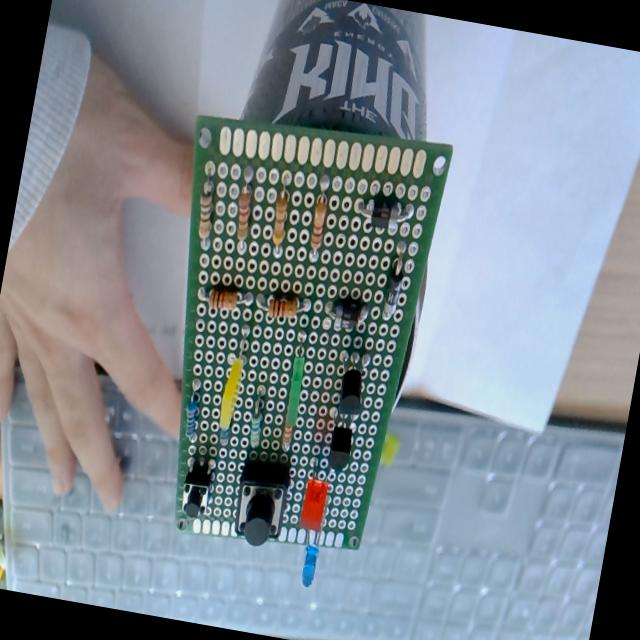diode: (354, 194, 414, 236), (322, 294, 370, 332), (380, 264, 406, 322)
led: (217, 329, 250, 432), (296, 514, 332, 591), (296, 464, 332, 538), (282, 351, 306, 427)
resistor: (304, 176, 334, 261), (230, 167, 258, 246), (266, 176, 294, 254), (197, 282, 254, 320), (253, 288, 310, 324), (192, 182, 218, 244), (180, 385, 204, 442), (245, 392, 268, 450), (279, 422, 293, 452), (218, 426, 231, 447)
switch: (230, 457, 292, 549), (178, 458, 215, 522)
transistor: (326, 394, 360, 471), (332, 348, 369, 418)
